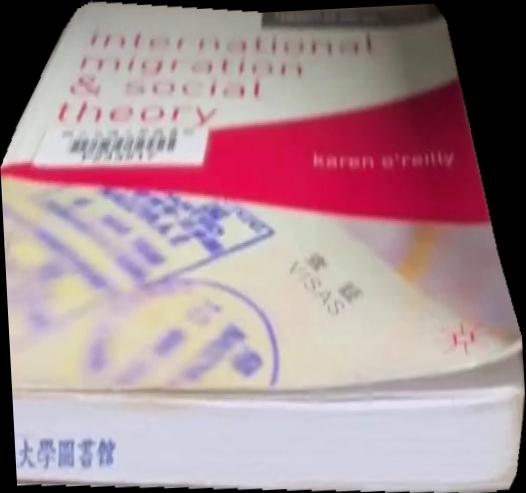flat: (1, 1, 526, 493)
